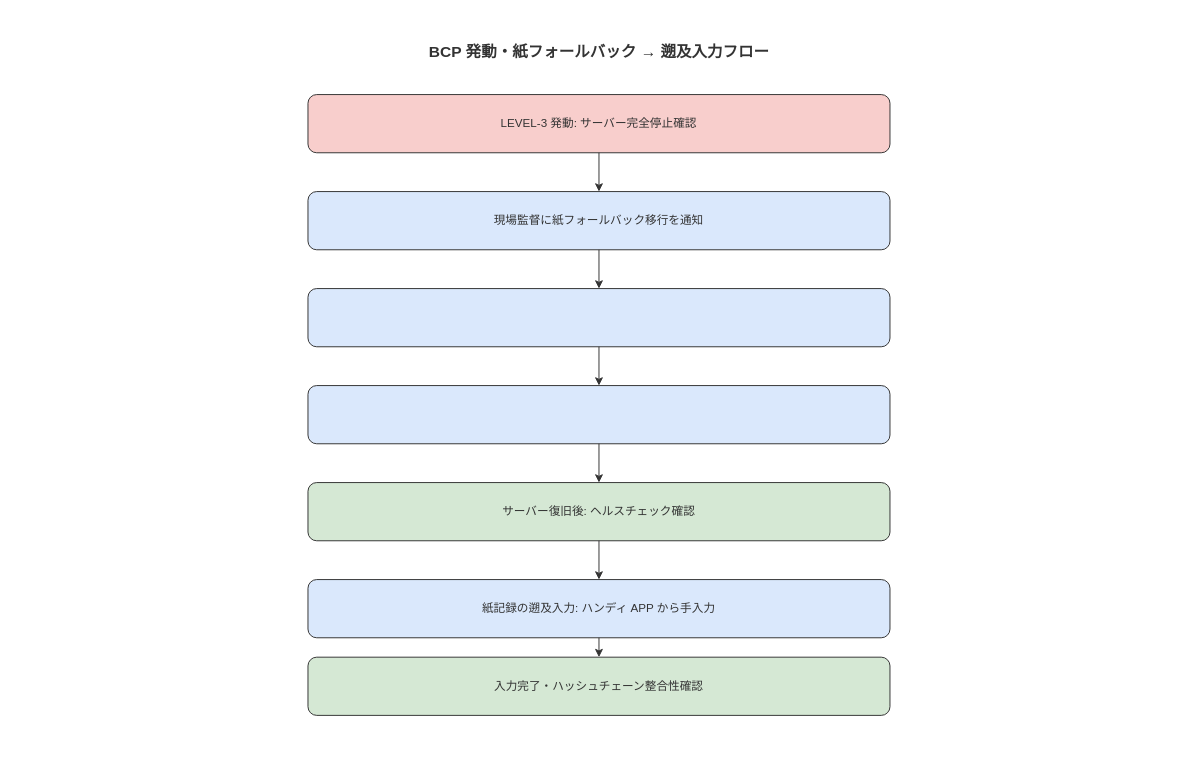
The diagram is 1197 pixels wide and 770 high, and some of its shapes have lost their labels. The shapes that lost their labels are listed below. From the top down, each one's box as (x1, y1, x2, y2) in pixels, then its label:
(307, 288, 890, 347): 紙記録開始: FORM-BCP-001〜005 配布
(307, 385, 890, 444): 現場作業継続（紙記録: 不適合/IQC/検査結果）
